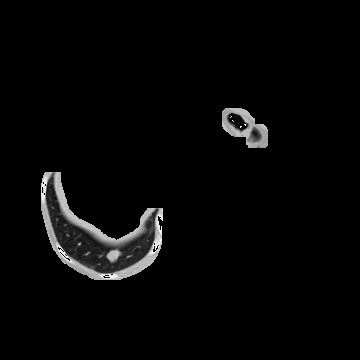PN: (106, 248, 120, 262)
